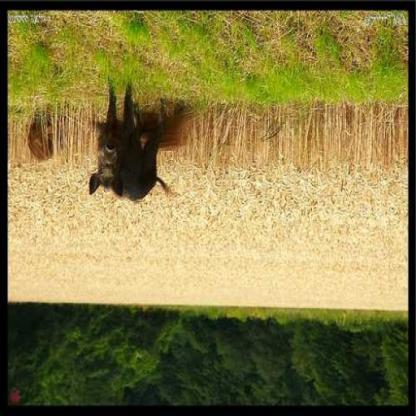boar: (84, 97, 186, 227)
